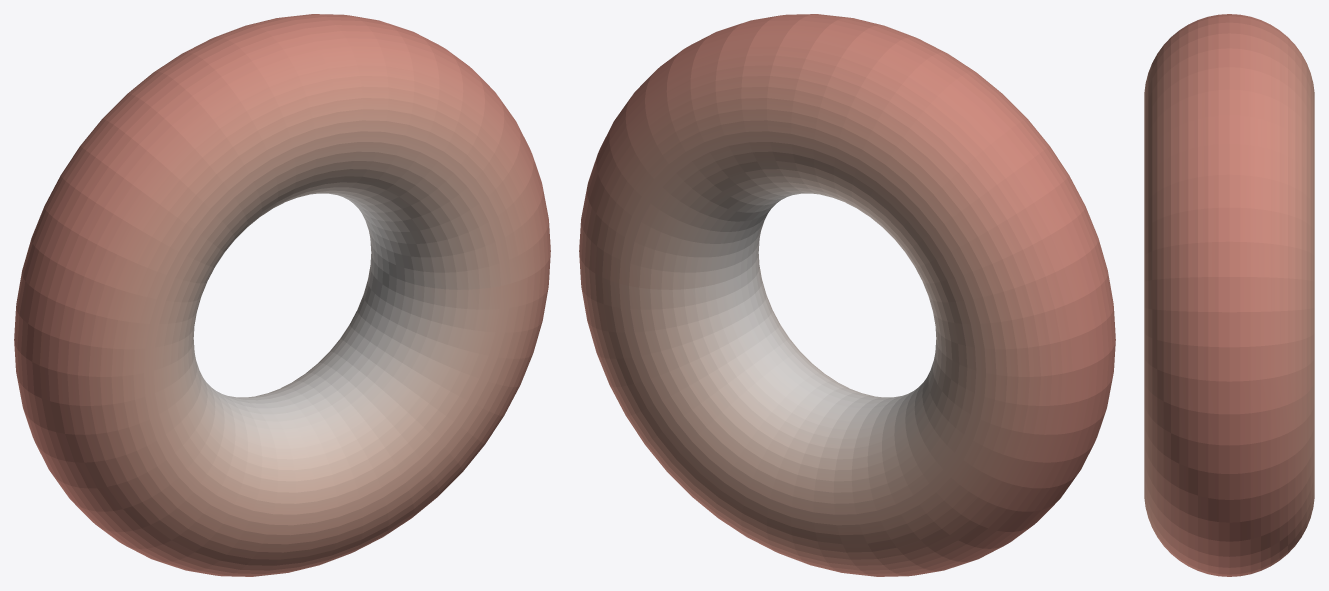
3 views of the same model, side by side, from view 1: azimuth 30°, elevation 25°; view 2: azimuth 150°, elevation 25°; view 3: azimuth 270°, elevation 25° (orthographic). The views are drawn at different scales.
Parts seen in each view (by area): view 1: world; view 2: world; view 3: world.
Part boxes in pixels (x1,y1,x2,y2): world: [14, 14, 550, 576]; world: [579, 14, 1115, 576]; world: [1144, 14, 1314, 576].
Bounding box in the file's own units: 26.8 × 26.75 × 8.12.
